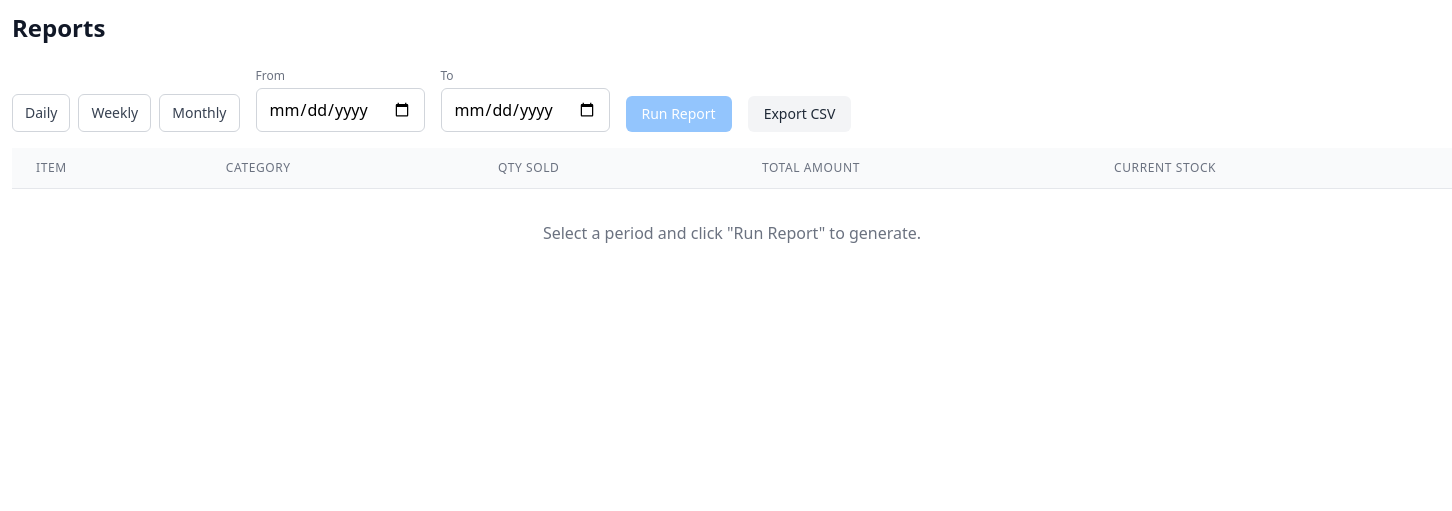
Test: ReportsPage › fetches report on Run Report click
Step 1. Click the button with test id "period-daily" → (41, 113), box [12,94,70,132]
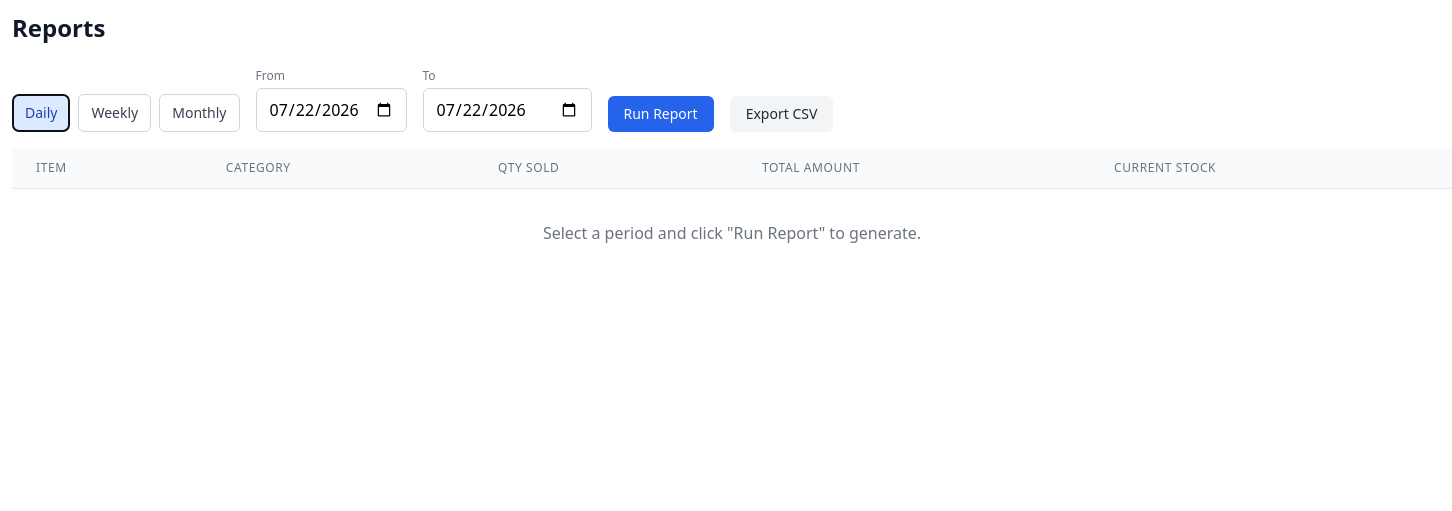
Step 2. Click the button with test id "run-report-btn" → (661, 114), box [608,96,714,132]
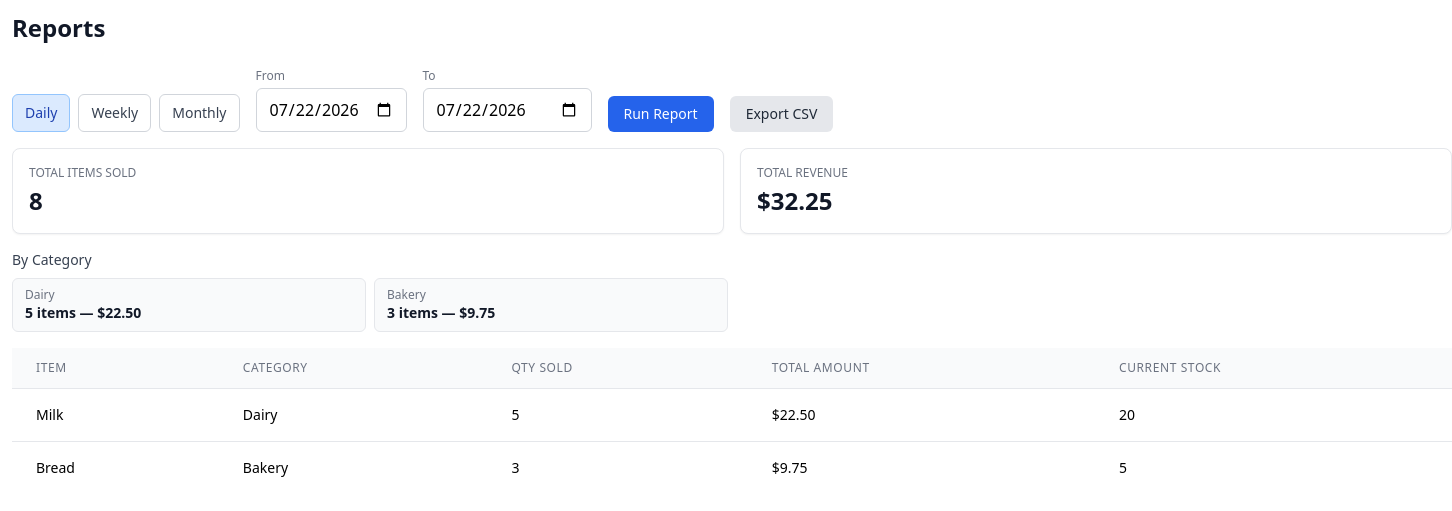
Expected: the text "Milk" is shown, [12,388,219,442]
Expected: the text "Bread" is shown, [12,442,219,494]
